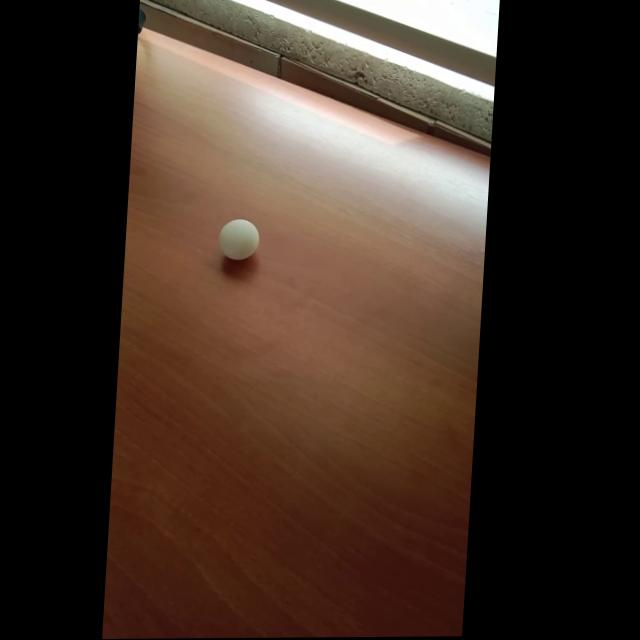white ball: (217, 218, 260, 260)
